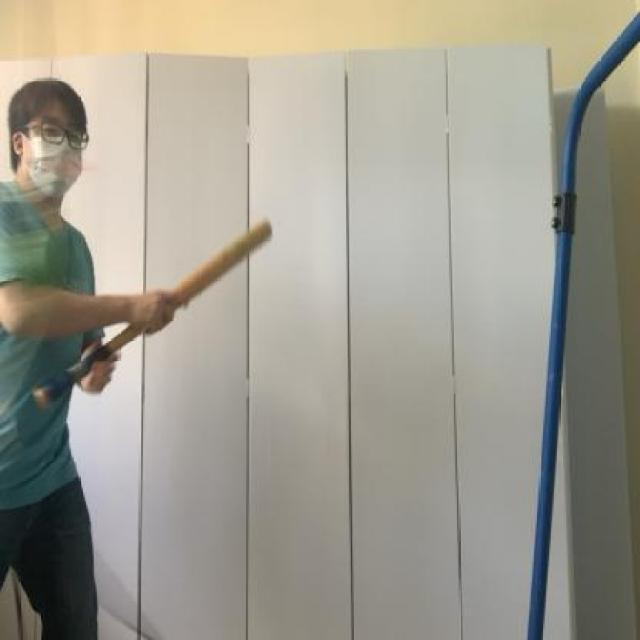baseball: (0, 189, 83, 285)
